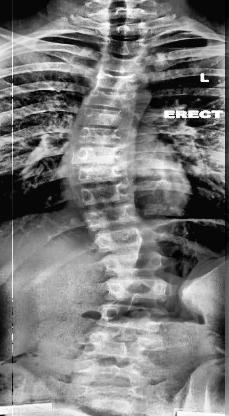Vertebrae: (102, 273, 170, 301), (71, 179, 131, 209), (95, 222, 157, 250), (100, 250, 168, 275), (97, 304, 167, 328), (84, 203, 142, 227), (85, 88, 137, 110), (76, 124, 128, 146), (70, 144, 126, 164), (78, 106, 132, 126), (70, 164, 126, 182), (98, 50, 138, 72), (95, 70, 135, 92), (103, 20, 148, 38), (104, 34, 142, 54)
